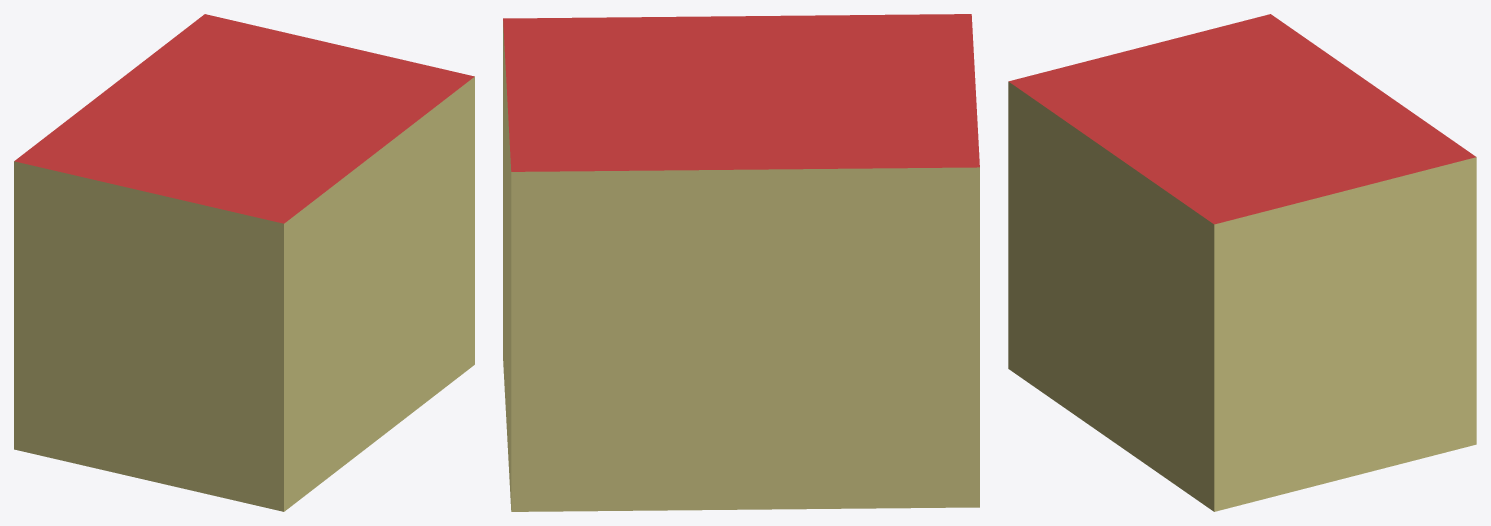
3 views of the same model, side by side, from view 1: azimuth 30°, elevation 25°; view 2: azimuth 150°, elevation 25°; view 3: azimuth 270°, elevation 25° (orthographic). The views are drawn at different scales.
Bounding box in the file's own units: 10.83 × 10.18 × 6.89.
